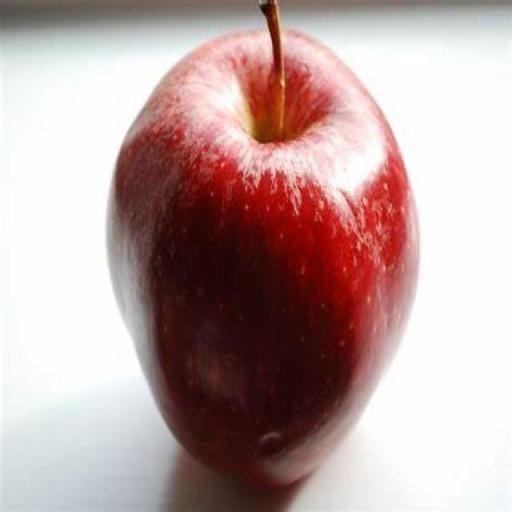fruit: (364, 129, 468, 450), (158, 8, 398, 40), (151, 9, 393, 21)
